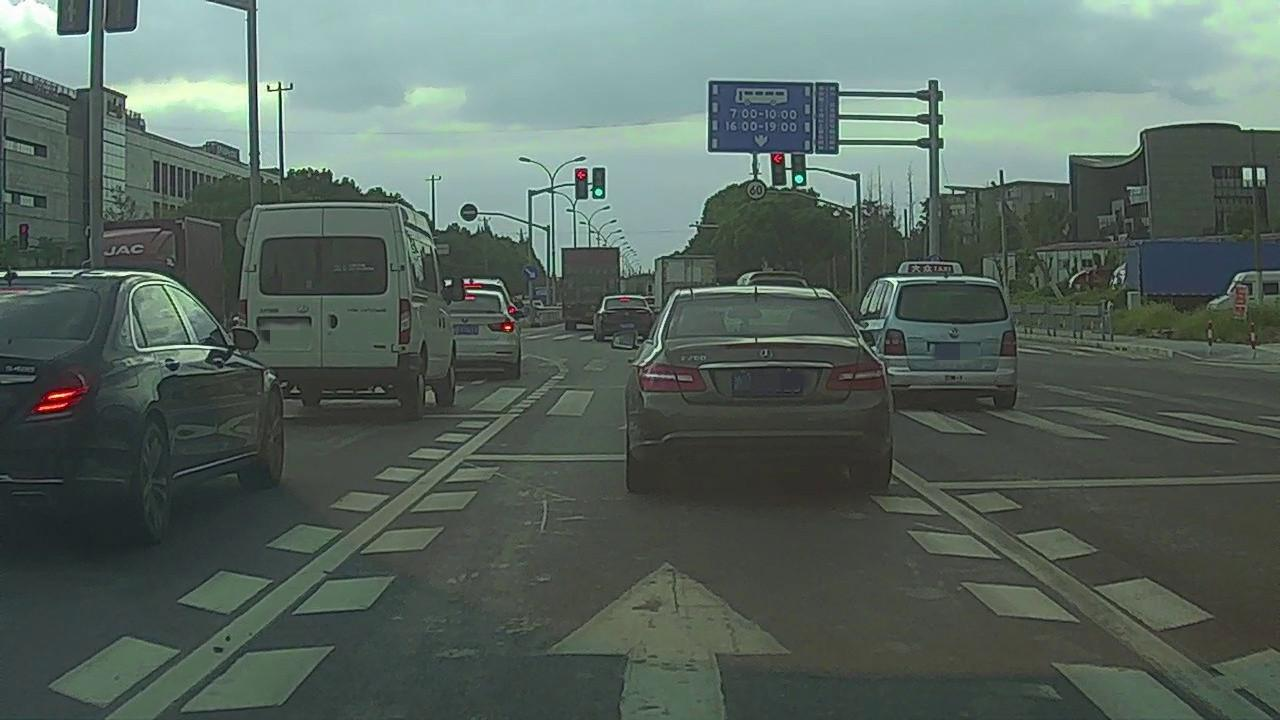traffic_light: (771, 152, 787, 185), (792, 152, 807, 185), (592, 167, 606, 200), (576, 167, 589, 199)
